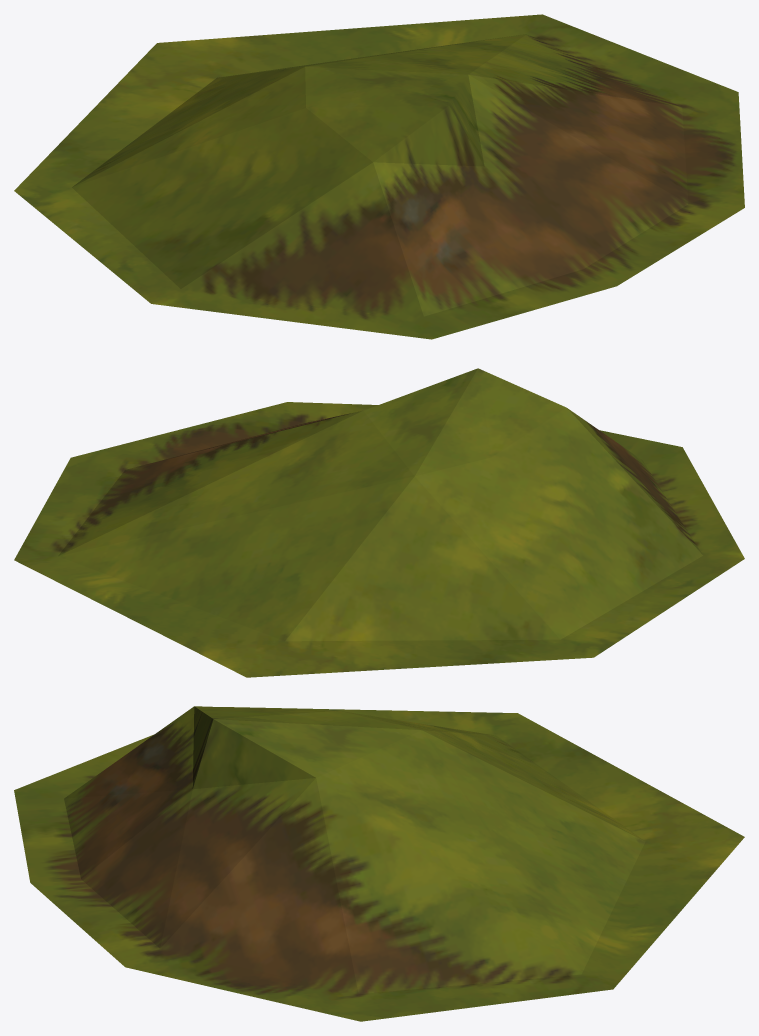
The model's file is miniberm_01.fbx.
The picture shows the model from 3 angles, top to bottom: view 1: azimuth 30°, elevation 25°; view 2: azimuth 150°, elevation 25°; view 3: azimuth 270°, elevation 25°; orthographic projection. The views are drawn at different scales.
Visible parts, largest first — view 1: obj0.037; view 2: obj0.037; view 3: obj0.037.
Boxes of the visible parts, x1,y1,x2,y2 form: obj0.037: [14, 14, 744, 339]; obj0.037: [14, 368, 744, 677]; obj0.037: [14, 706, 744, 1021].
Size of the model in its own units: 8.37 by 1.59 by 8.21.
